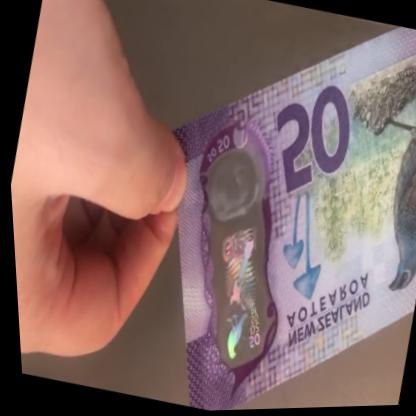50B: (171, 142, 300, 370)
